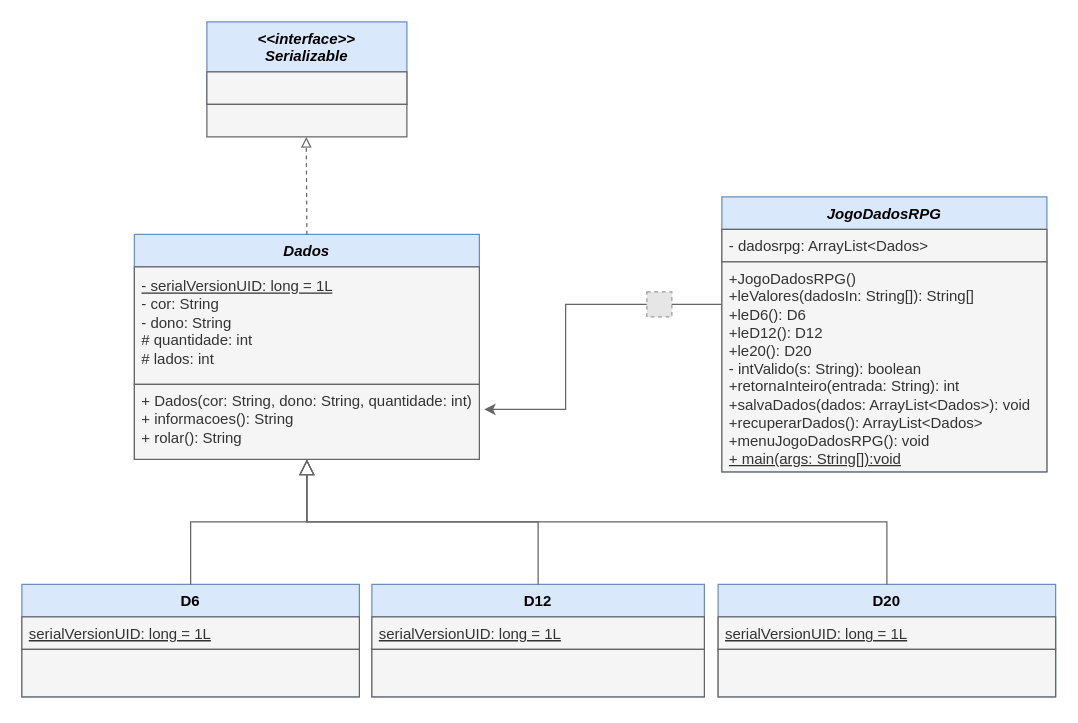
The diagram is 1078 pixels wide and 723 high, and some of its shapes have lost their labels. Grey dashed boxes stand in for pictures. Here are the shapes that lost their labels. From the top down, the centre of each, then its label:
At pixel 190 672: "+ rolar(): String + D6(cor: String, dono: String, quantidade: int)".
At pixel 537 672: "+ rolar(): String + D12(cor: String, dono: String, quantidade: int)".
At pixel 886 672: "+ rolar(): String + D20(cor: String, dono: String, quantidade: int)".
